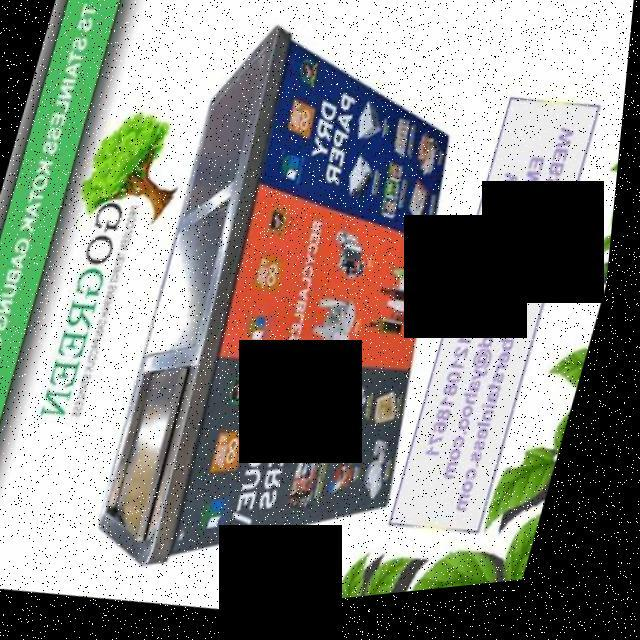bin: (65, 0, 530, 631)
